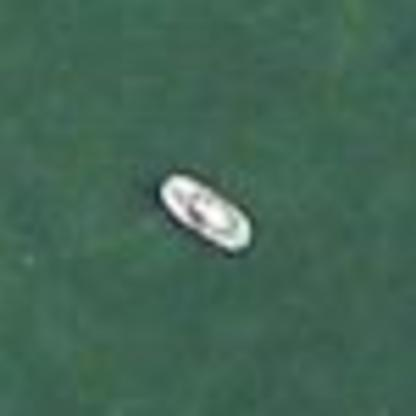ship: (146, 160, 264, 258)
